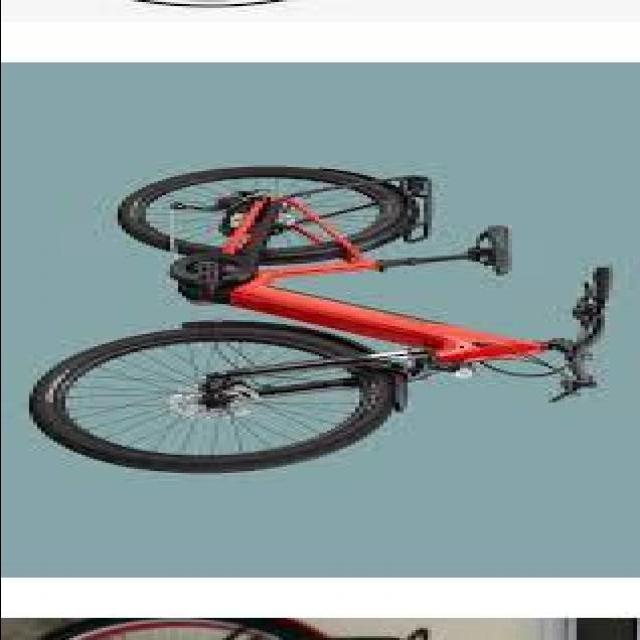bicycle: (37, 162, 617, 474), (45, 621, 315, 640)
